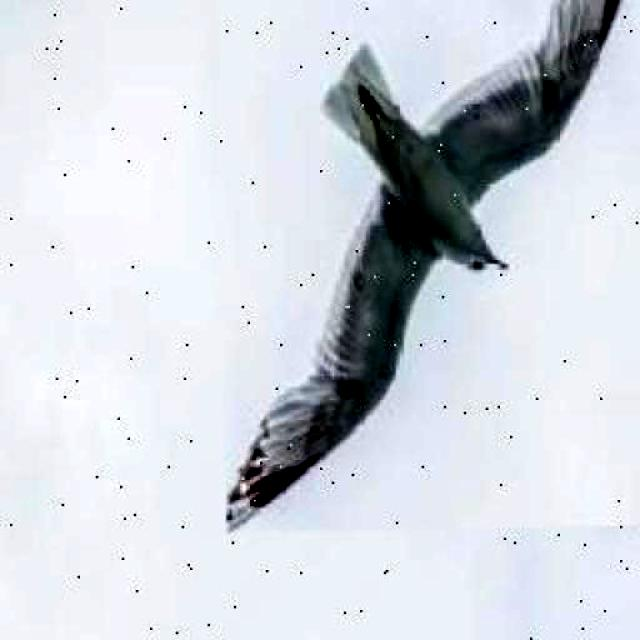airplane: (215, 0, 640, 531)
